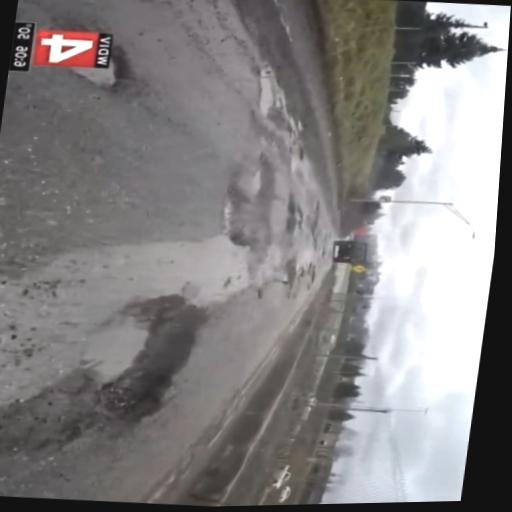pothole: (85, 299, 191, 404), (225, 179, 245, 238), (257, 70, 281, 119)
